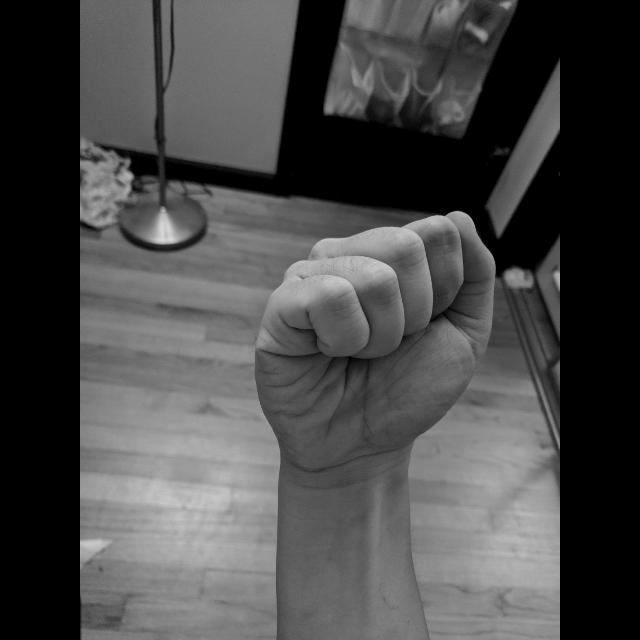A: (249, 206, 503, 487)
